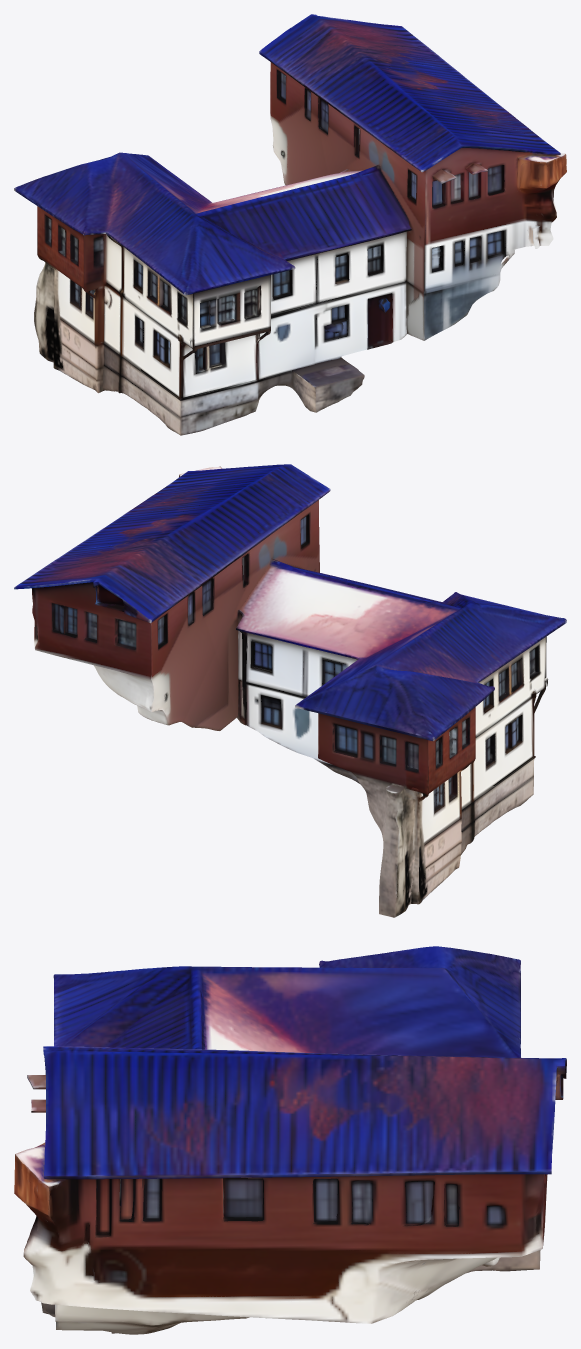
Rendered from base_basic_shaded.fbx.
3 renders of one model, top to bottom at view 1: azimuth 30°, elevation 25°; view 2: azimuth 150°, elevation 25°; view 3: azimuth 270°, elevation 25°, orthographic. The views are drawn at different scales.
Parts seen in each view (by area): view 1: model; view 2: model; view 3: model.
Boxes of the visible parts, x1,y1,x2,y2 form: model: (14, 14, 566, 435); model: (14, 464, 566, 917); model: (14, 946, 566, 1334).
Bounding box in the file's own units: 190 × 120 × 147.
